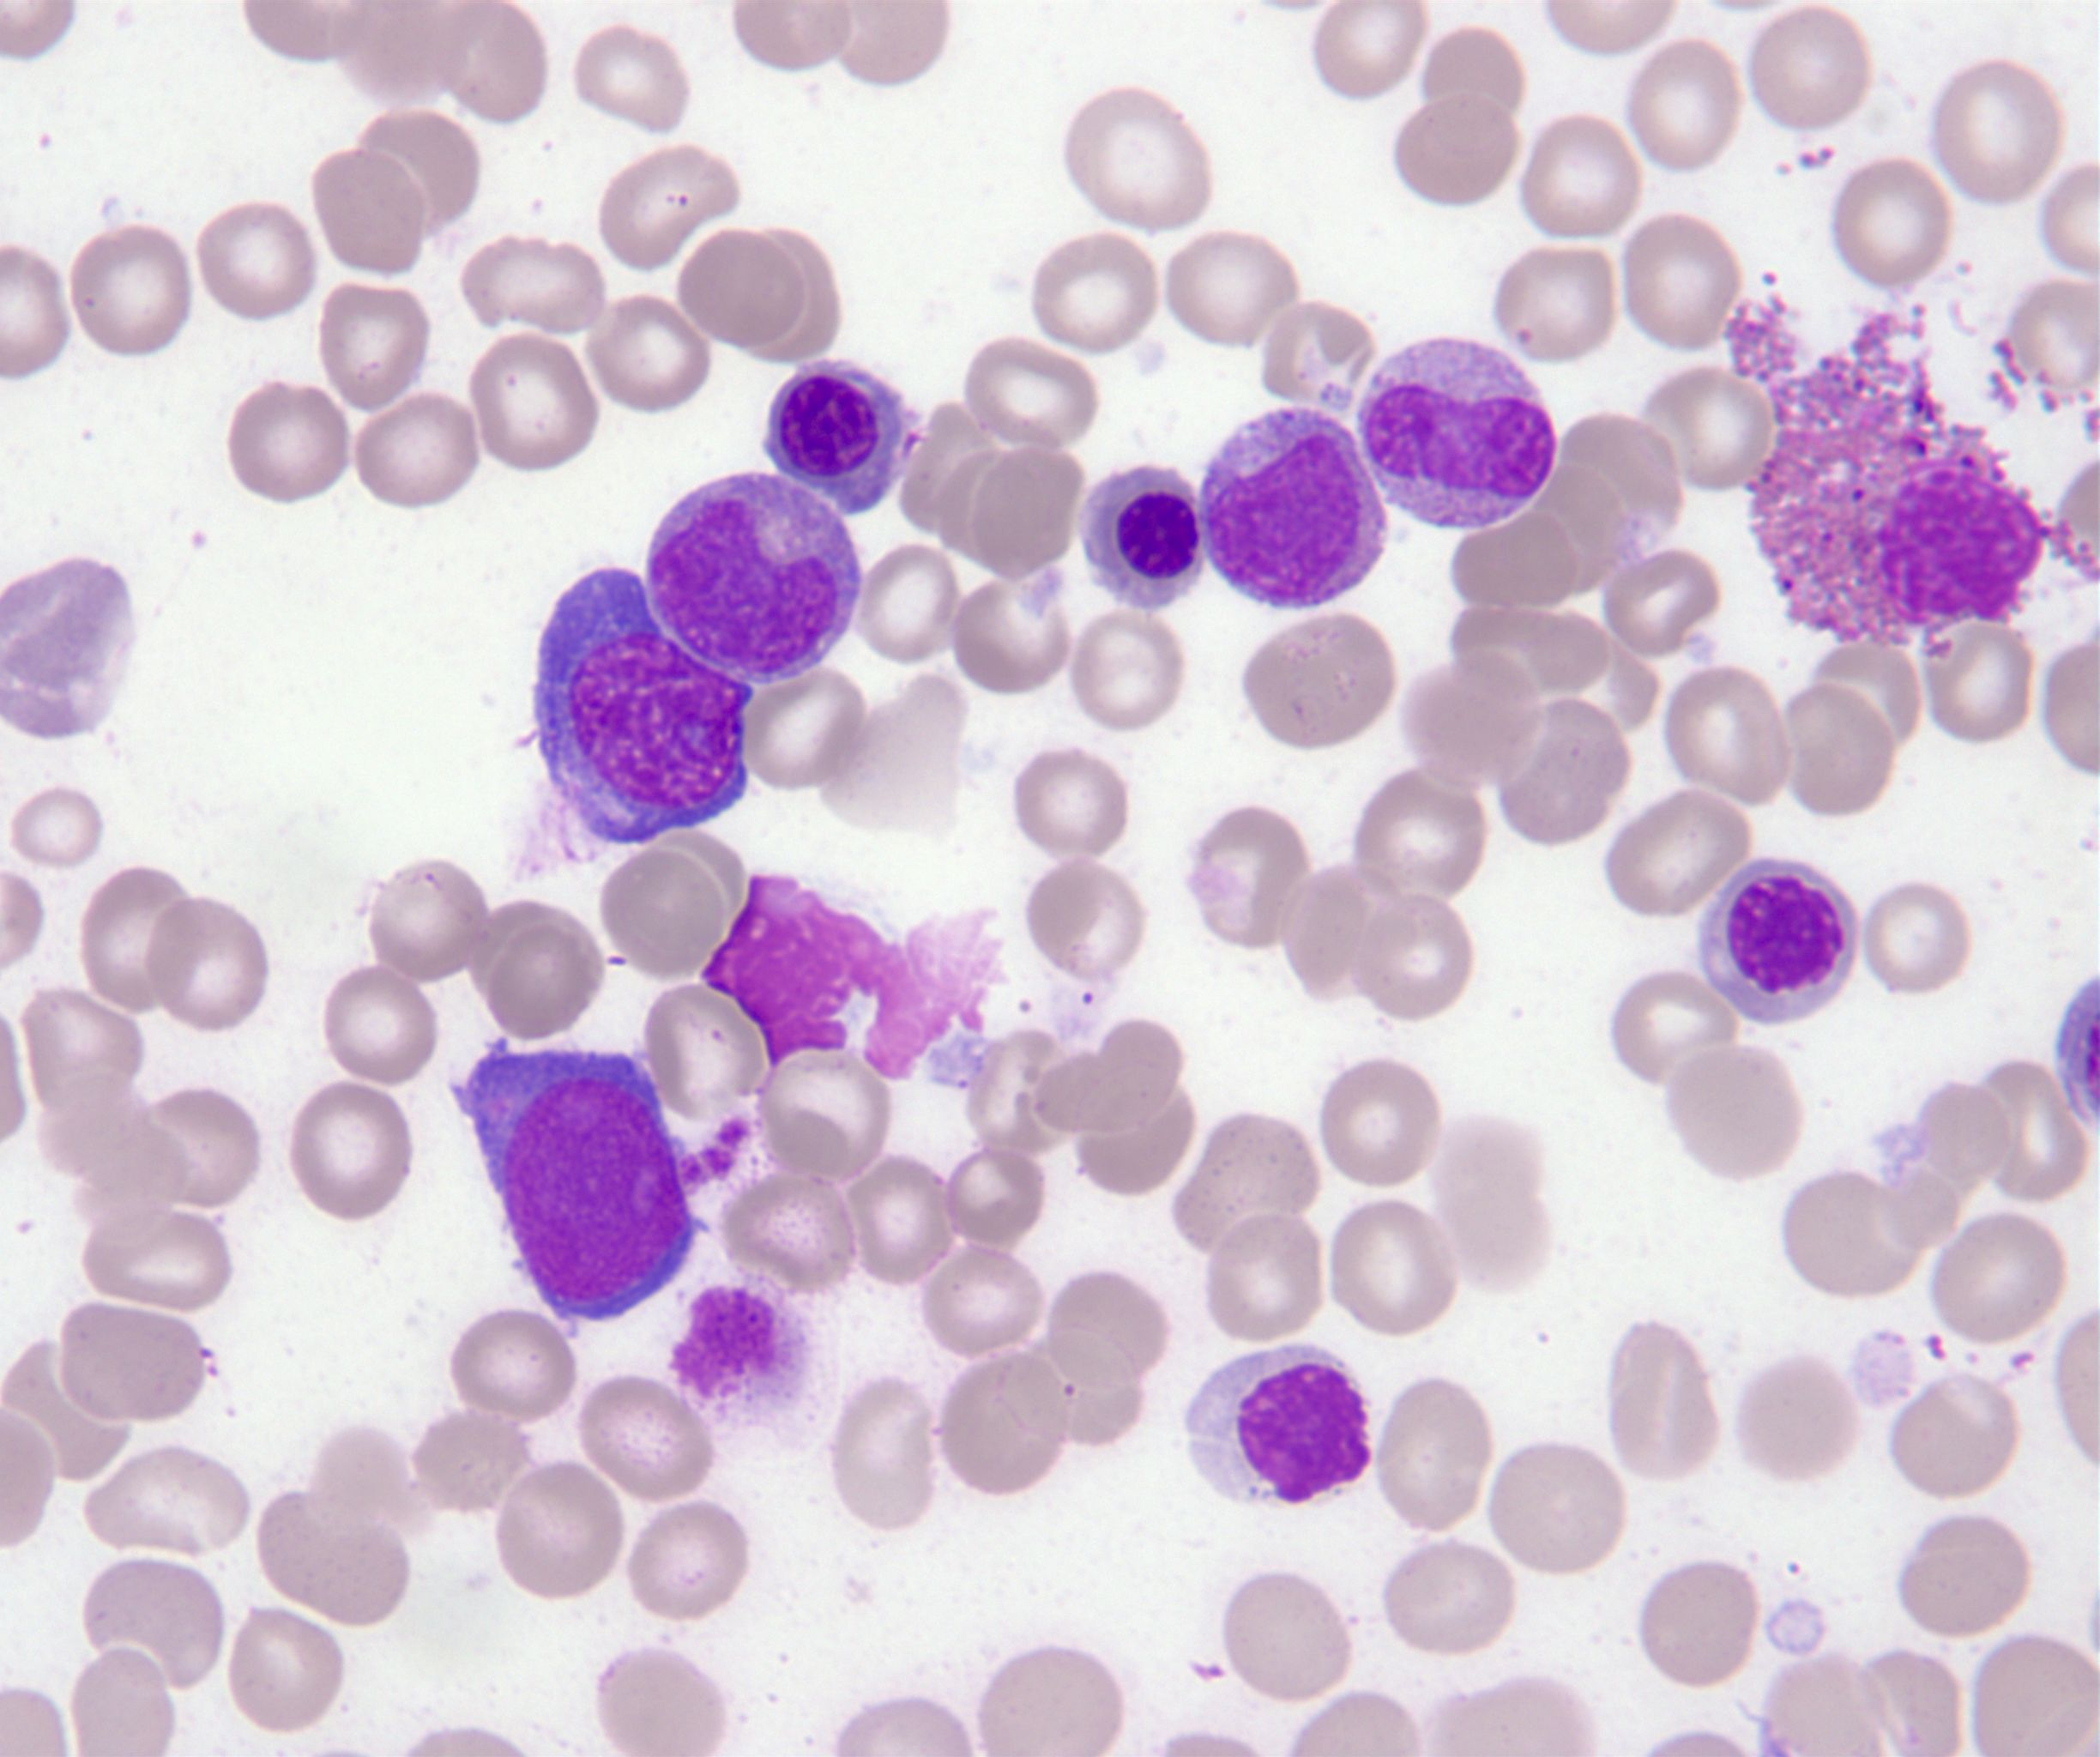2: (450, 1050, 696, 1326)
22: (535, 569, 752, 841)
24: (1702, 857, 1854, 1024), (766, 361, 909, 513), (1081, 466, 1203, 612)
3: (647, 475, 860, 684), (1200, 414, 1385, 607)
4: (1364, 338, 1551, 530)
x: (1723, 286, 2046, 653), (698, 879, 1005, 1082), (1183, 1347, 1367, 1502), (668, 1289, 815, 1431)
